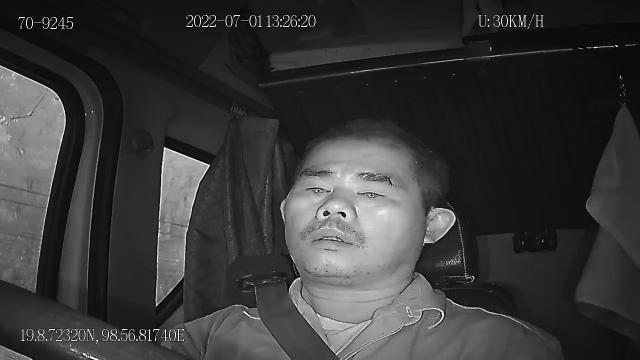SafeDriving: (348, 178, 396, 206), (295, 176, 335, 204)
Seatbelt: (249, 266, 347, 360)
